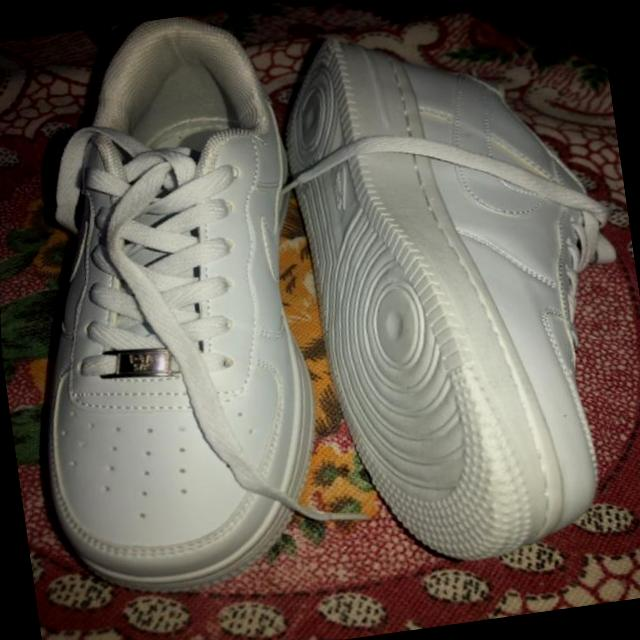nike_fake_airforce: (223, 0, 640, 598), (0, 0, 377, 622)
